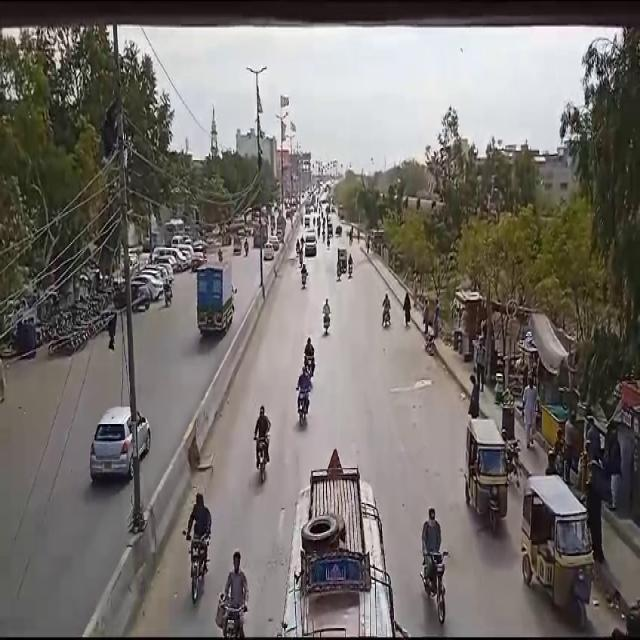car: (90, 398, 150, 486)
motorbike: (180, 486, 212, 605), (421, 502, 452, 622), (252, 400, 272, 486), (296, 365, 312, 431), (379, 289, 393, 328)
truck: (194, 255, 237, 336)
